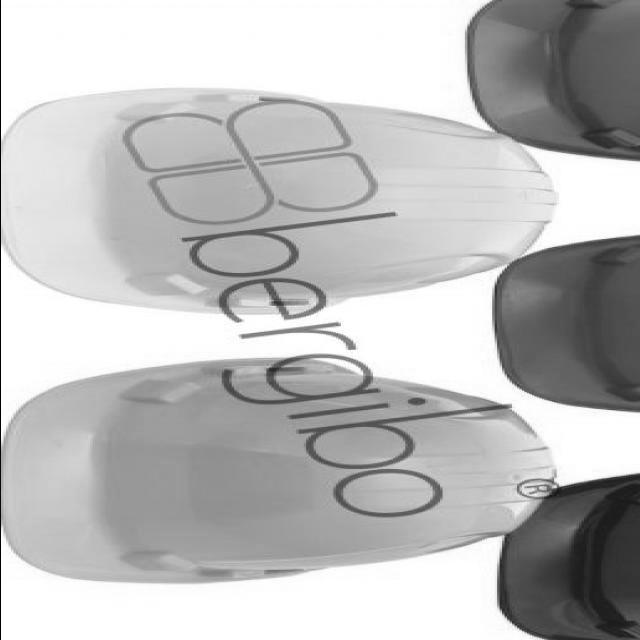construction helmet: (0, 85, 556, 321), (0, 355, 556, 587)
